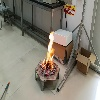fire: (42, 31, 54, 71)
